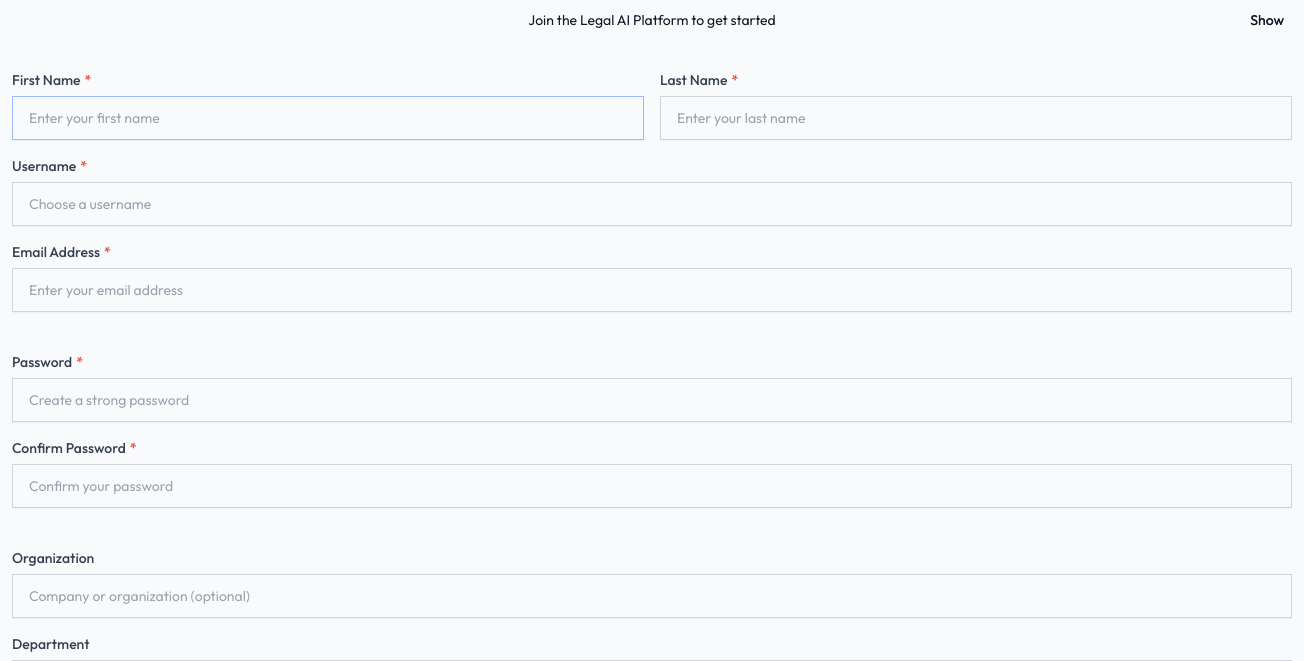
RegisterPage › Form Validation - Required Fields › should validate last name is required
In the field labelled "First Name*": (328, 118) [12,96,644,140], type "John"
(page scrolled)
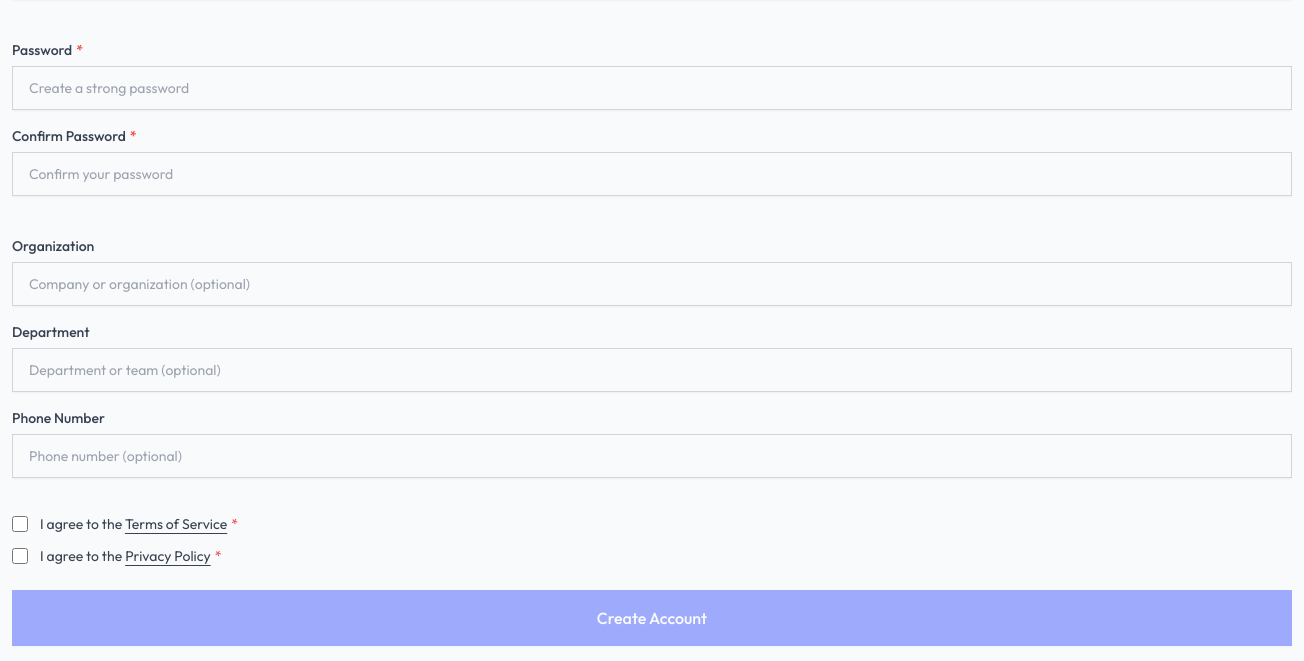
Click the checkbox labelled "I agree to the Terms of Service *": (20, 524) [12,516,28,532]
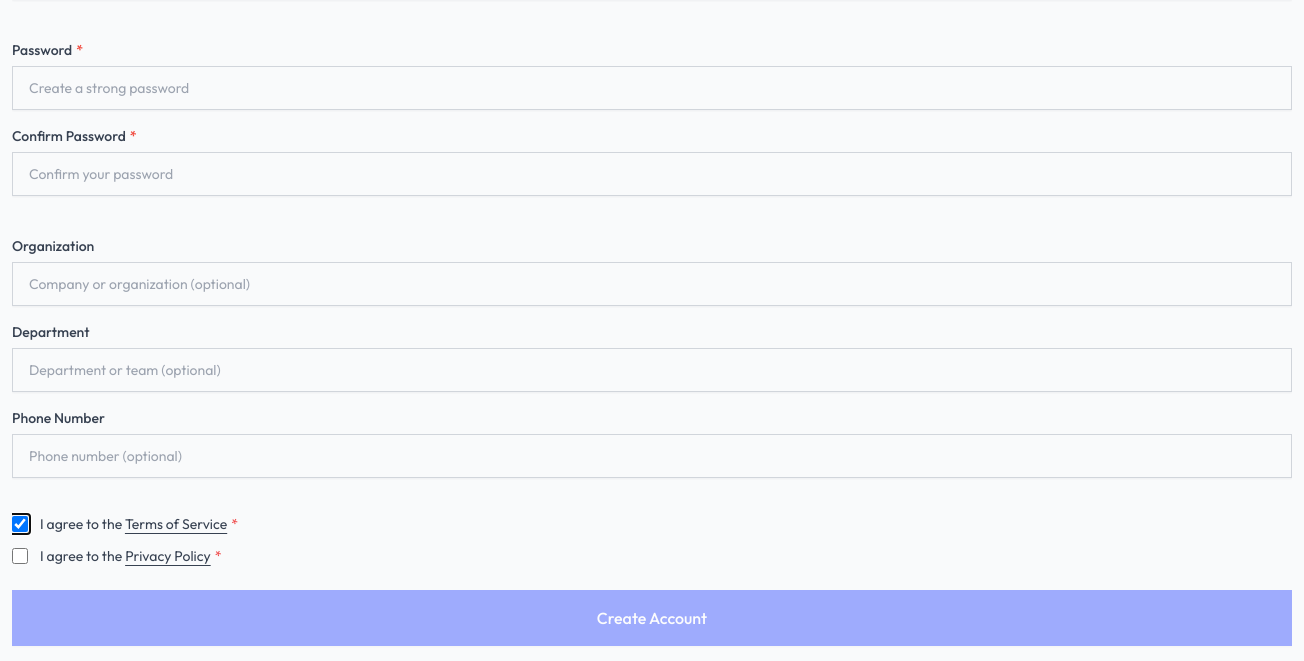
Click the checkbox labelled "I agree to the Privacy Policy *": (20, 556) [12,548,28,564]
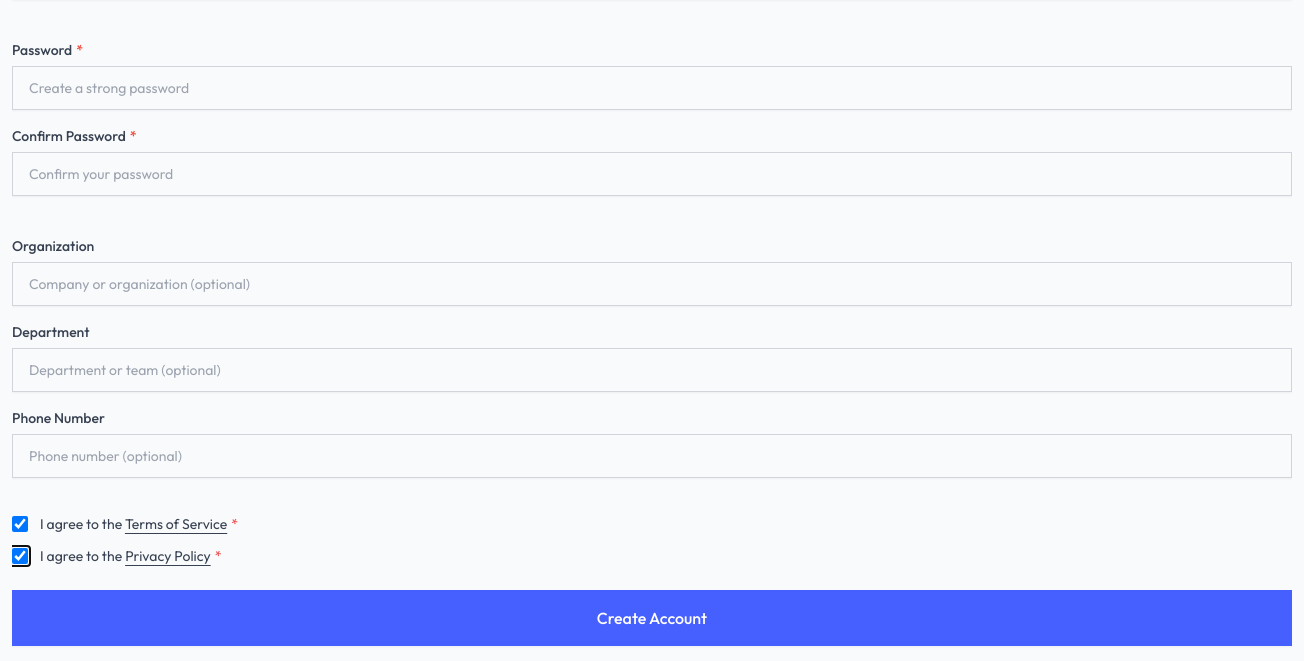
Click the button "Create Account": (652, 618) [12,590,1292,646]
(page scrolled)
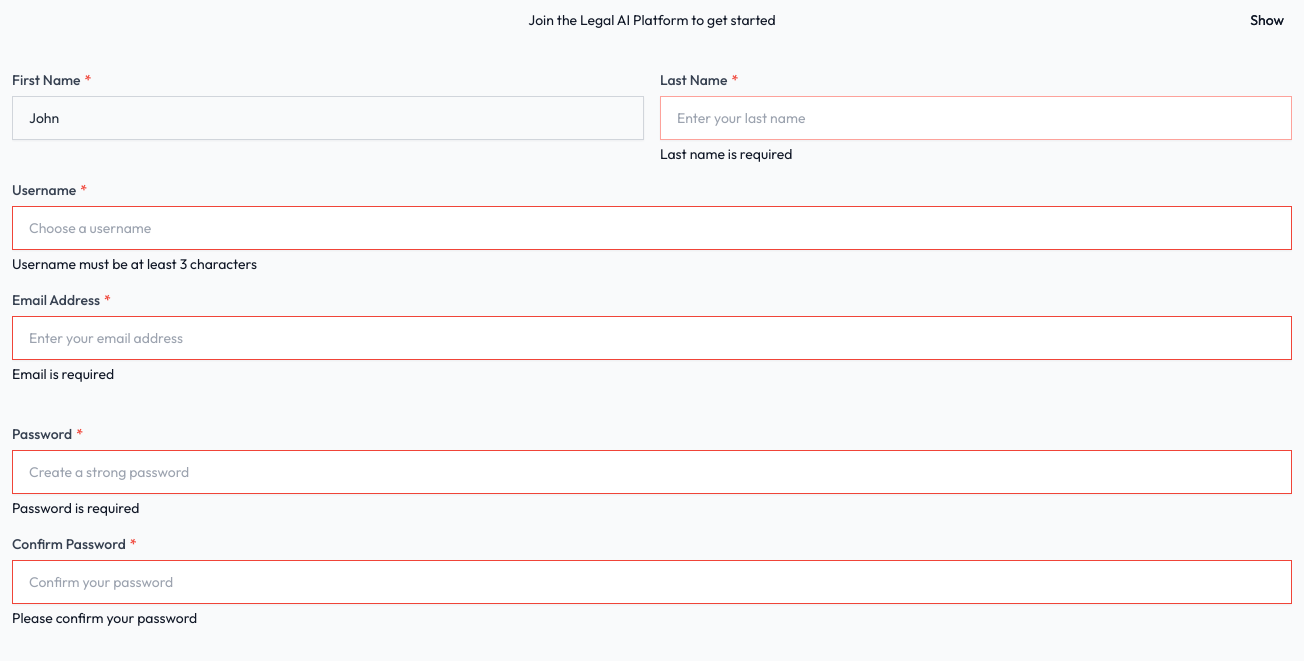
Expected: the text "Last name is required" is shown, [660,145,792,163]
